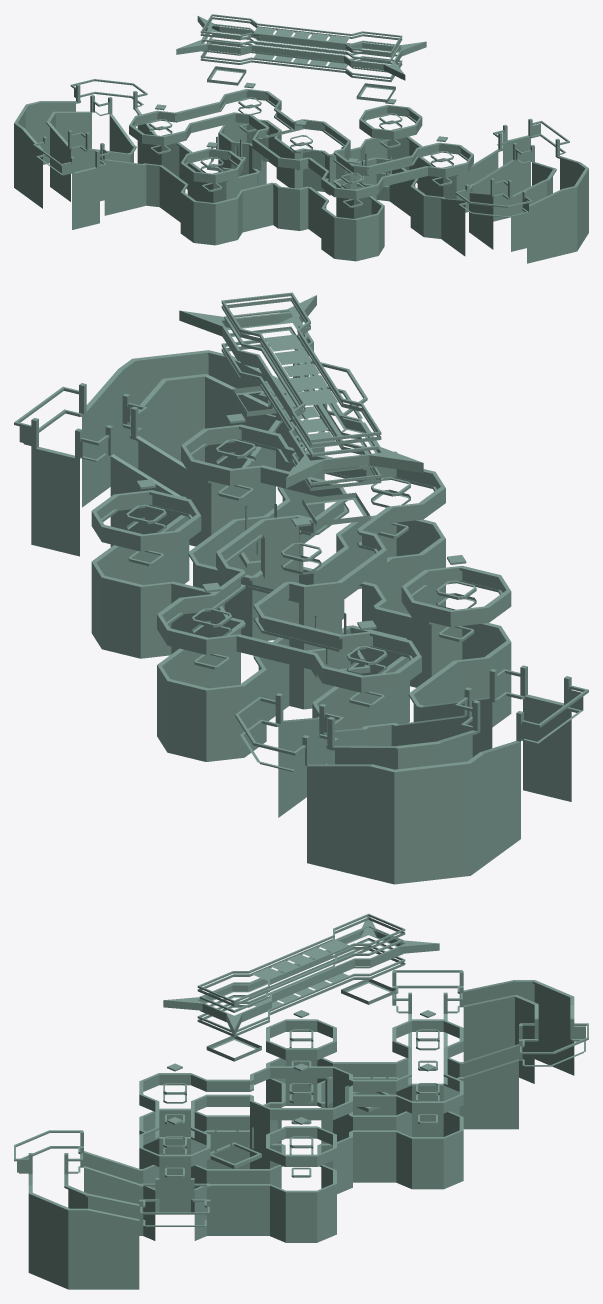
File: DF_00_METL_1.fbx
3 renders of one model, top to bottom at view 1: azimuth 30°, elevation 25°; view 2: azimuth 150°, elevation 25°; view 3: azimuth 270°, elevation 25°, orthographic. The views are drawn at different scales.
Visible parts, largest first — view 1: DF_00_METL_1; view 2: DF_00_METL_1; view 3: DF_00_METL_1.
Part boxes in pixels (x1,y1,x2,y2): DF_00_METL_1: (14,14,588,263); DF_00_METL_1: (14,292,588,884); DF_00_METL_1: (14,913,588,1289).
Bounding box in the file's own units: 7275 × 3027 × 7275.
